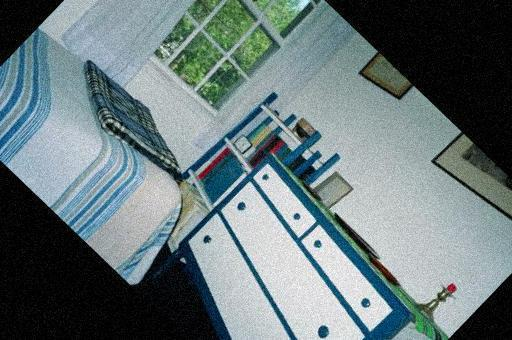Armario: (137, 153, 416, 340)
